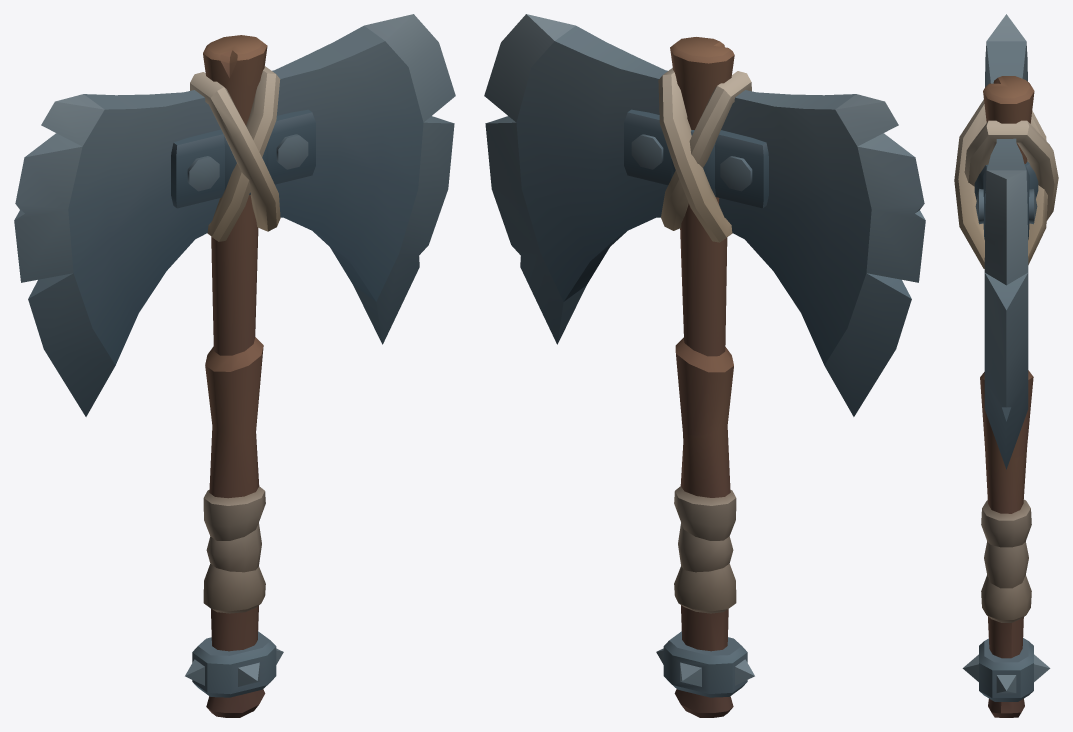
Rendered from XW_axe_B.glb.
3 renders of one model, left to right at view 1: azimuth 30°, elevation 25°; view 2: azimuth 150°, elevation 25°; view 3: azimuth 270°, elevation 25°, orthographic. The views are drawn at different scales.
Parts seen in each view (by area): view 1: axe_B; view 2: axe_B; view 3: axe_B.
Boxes of the visible parts, <box> form: axe_B: <box>14,14,455,717</box>; axe_B: <box>484,14,925,717</box>; axe_B: <box>954,14,1058,717</box>.
Bounding box in the file's own units: 1.15 × 1.66 × 0.2503.
